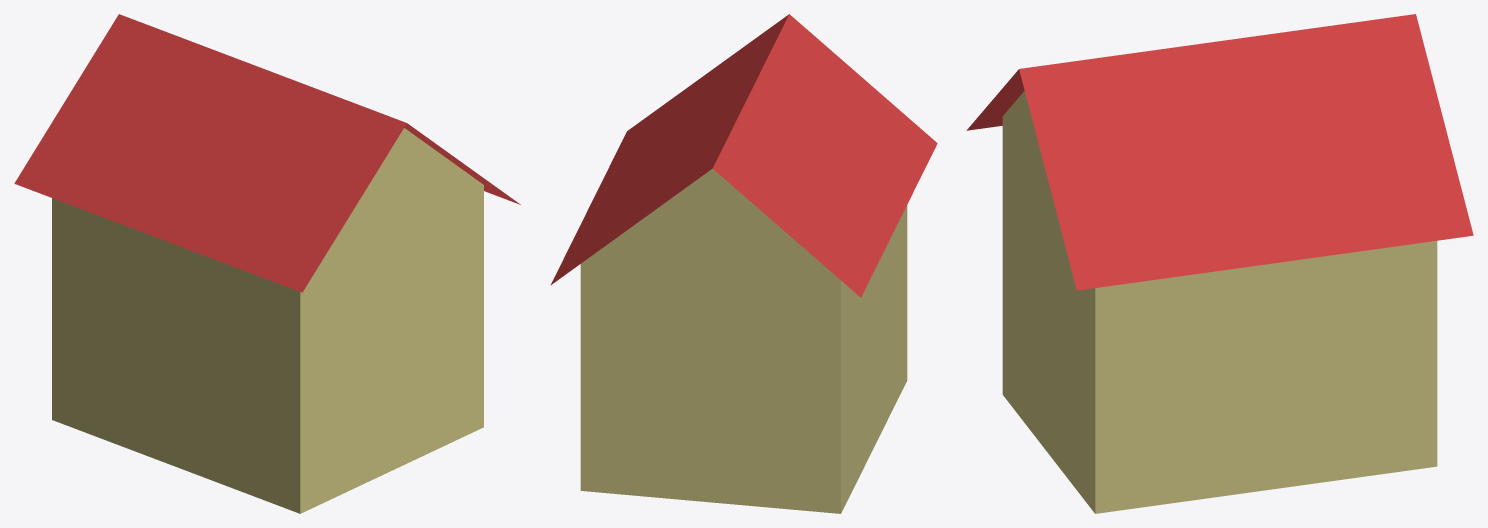
3 views of the same model, side by side, from view 1: azimuth 30°, elevation 25°; view 2: azimuth 150°, elevation 25°; view 3: azimuth 270°, elevation 25° (orthographic). The views are drawn at different scales.
Size of the model in its own units: 16.23 by 17.62 by 14.79.
